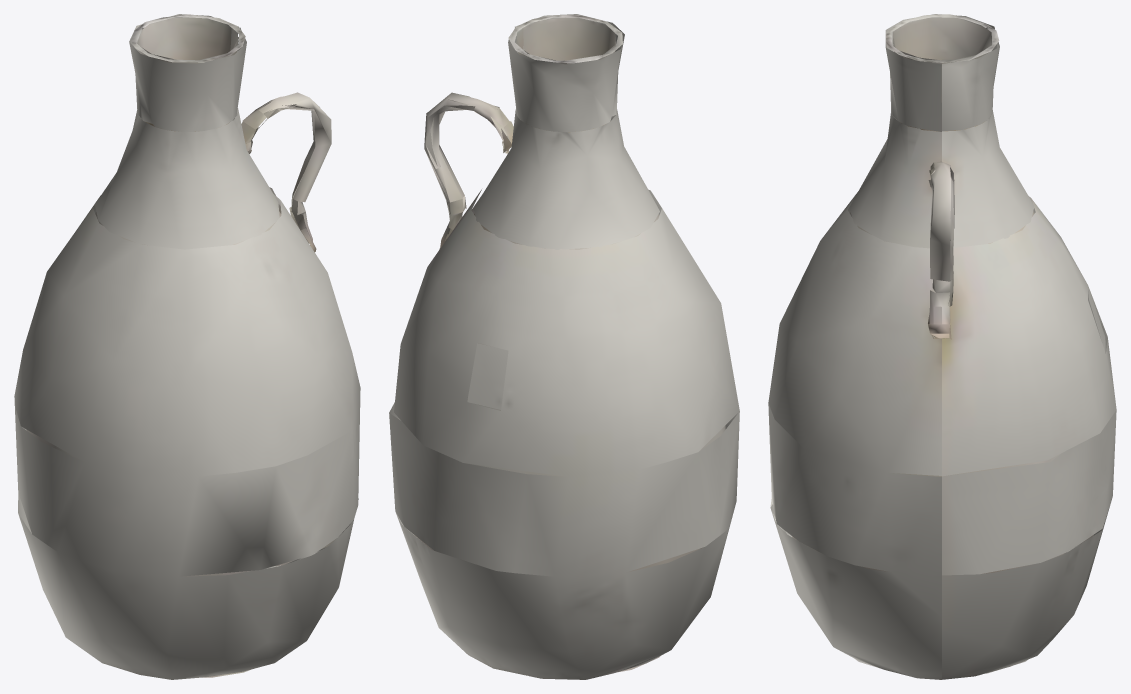
Rendered from ceramic_vase_04.glb.
The picture shows the model from 3 angles, left to right: view 1: azimuth 30°, elevation 25°; view 2: azimuth 150°, elevation 25°; view 3: azimuth 270°, elevation 25°; orthographic projection.
Visible parts, largest first — view 1: ceramic_vase_04; view 2: ceramic_vase_04; view 3: ceramic_vase_04.
Part boxes in pixels (bbox=[...]): ceramic_vase_04: bbox=[14, 14, 360, 679]; ceramic_vase_04: bbox=[389, 14, 739, 679]; ceramic_vase_04: bbox=[768, 14, 1116, 679].
Bounding box in the file's own units: 0.1831 × 0.3425 × 0.182.
1 material, 1 textured.
